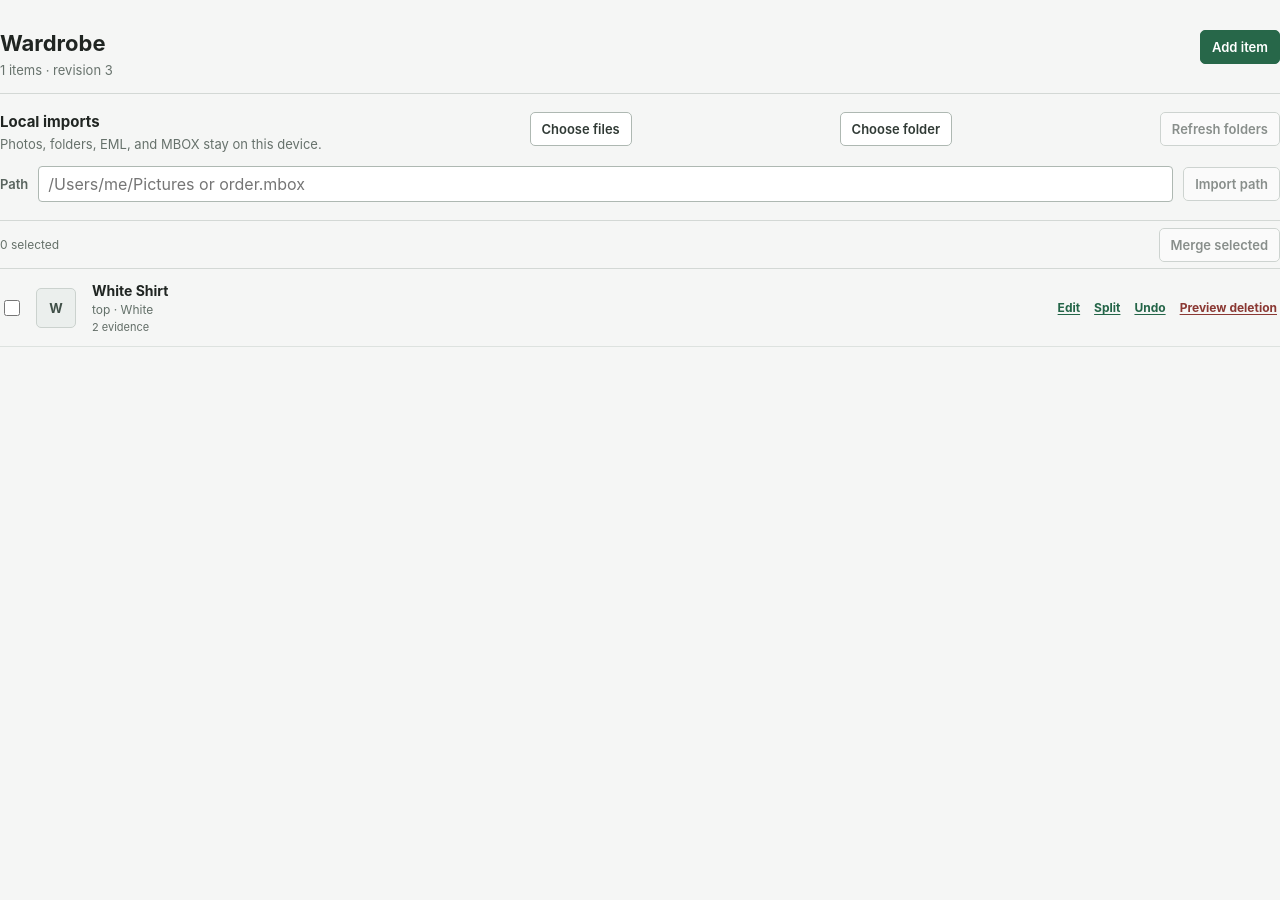
Test: P02 workspace › refreshes stale deletion authority and requires acknowledgement again
Click the button "Preview deletion".
click(1228, 308)  # box [1177,297,1279,318]
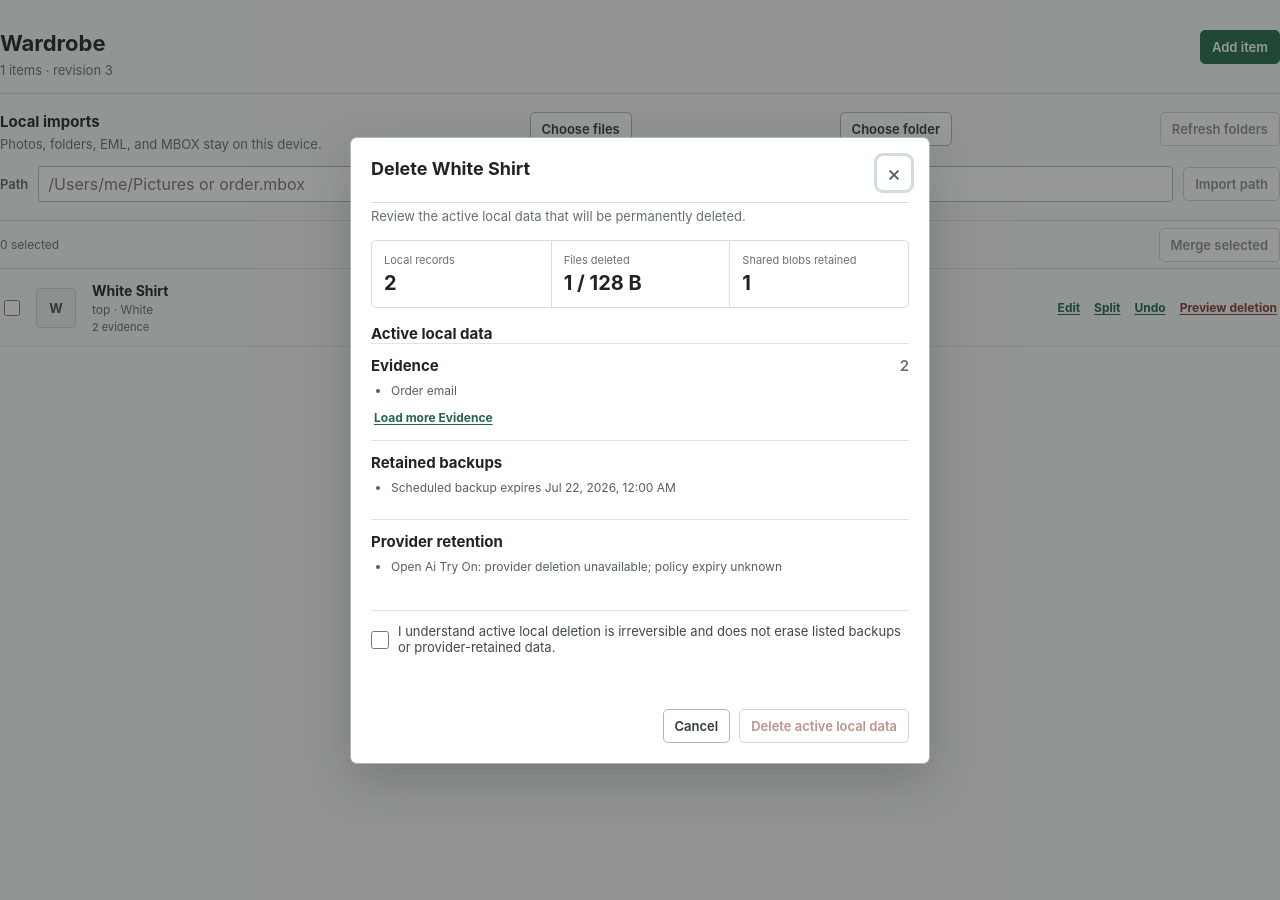
Click the checkbox labelled "active local deletion is irreversible".
click(380, 640)  # box [371,624,389,654]
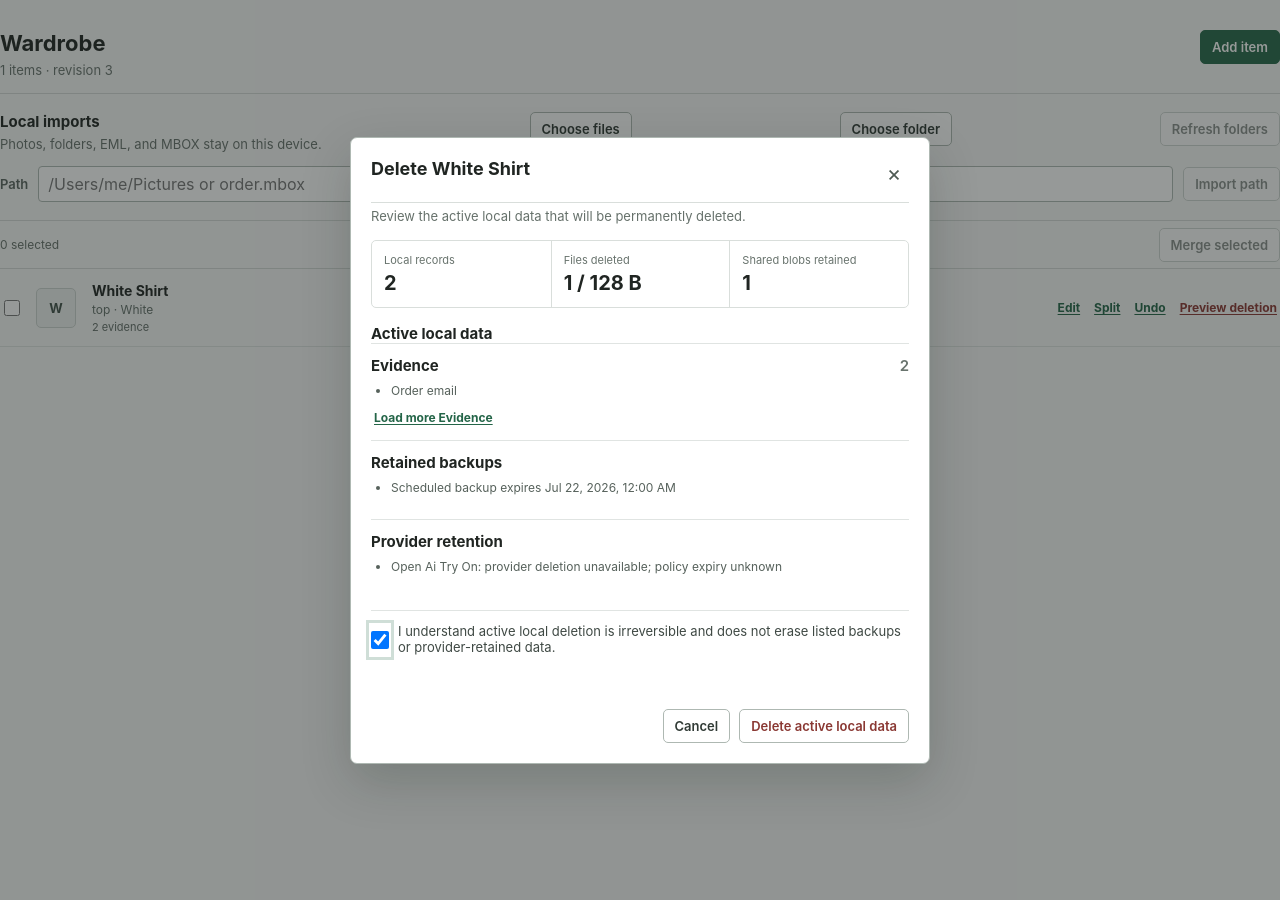
Click the button "Delete active local data".
click(824, 726)  # box [739,708,909,742]
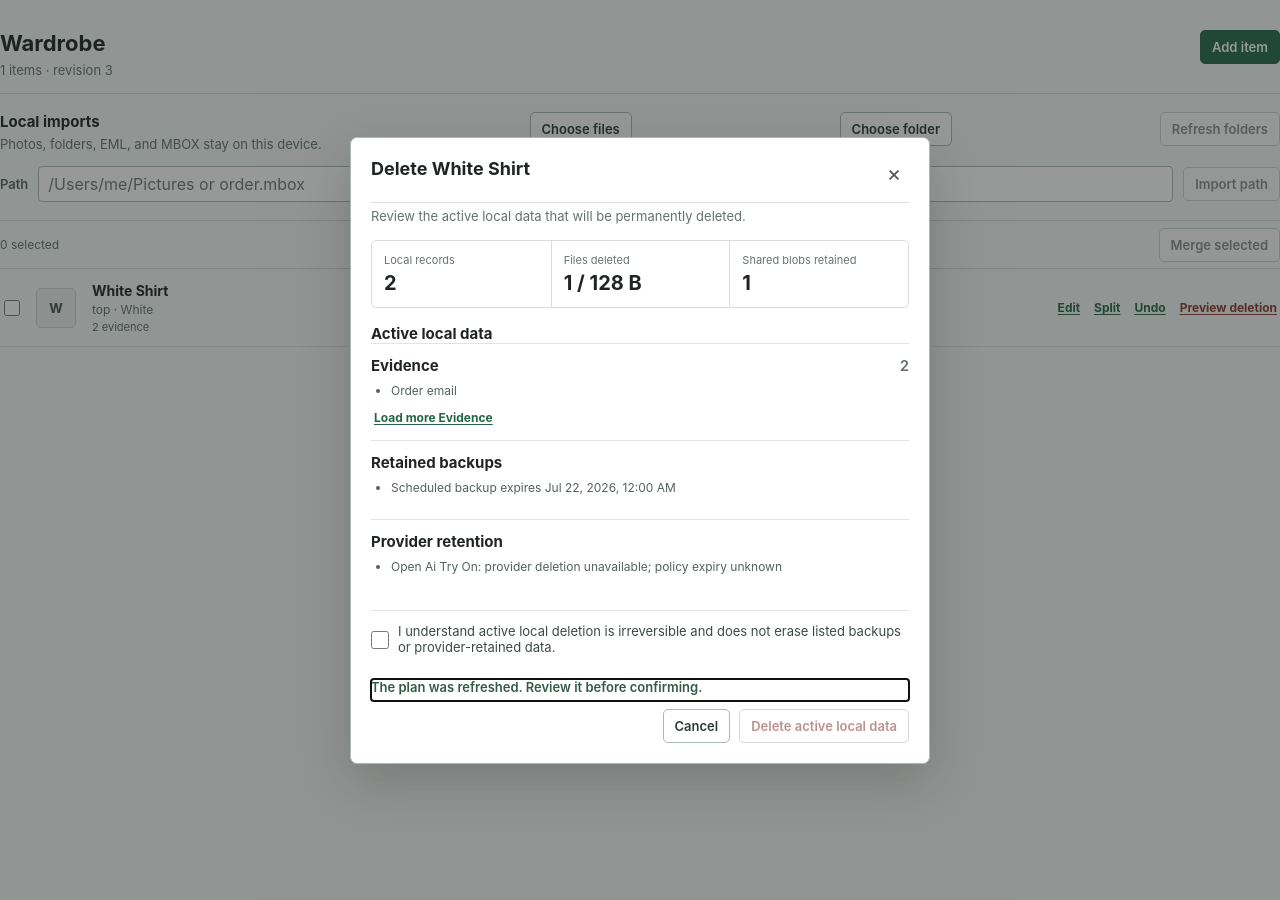
expect the checkbox labelled "active local deletion is irreversible" is not checked: met, box [371,624,389,654]
expect the text "The plan was refreshed. Review it before confirming." is shown: met, box [371,678,702,694]
expect the button "Delete active local data" is disabled: met, box [739,708,909,742]
